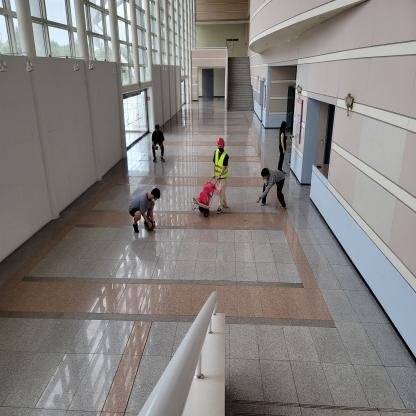Sitting: (127, 188, 161, 230), (261, 170, 286, 210)
Standing: (215, 136, 231, 212), (152, 125, 166, 163), (279, 120, 287, 172)
safety_equipment: (215, 149, 227, 177), (217, 139, 225, 149)
